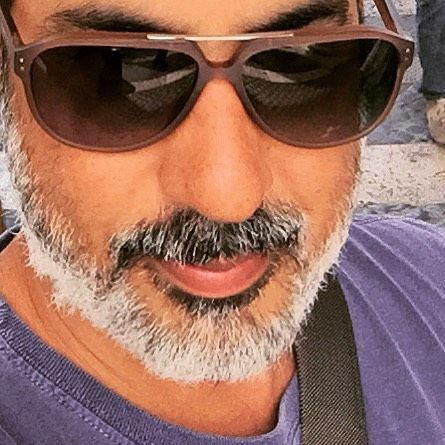sunglasses: (14, 34, 403, 144)
